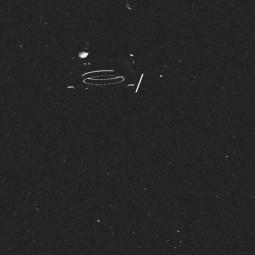proba_3_csc: (58, 0, 159, 114)
